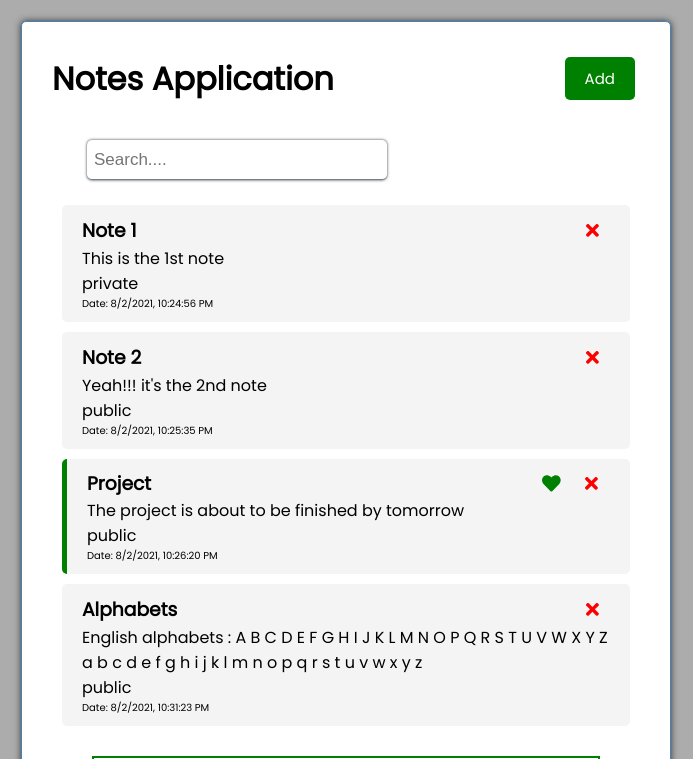
Test: Notes Application › Search testing: Search for notes › Where title contains 'p'
Type "p" into the field with id "search".
click(237, 160); type("p")  # box [87,140,387,180]
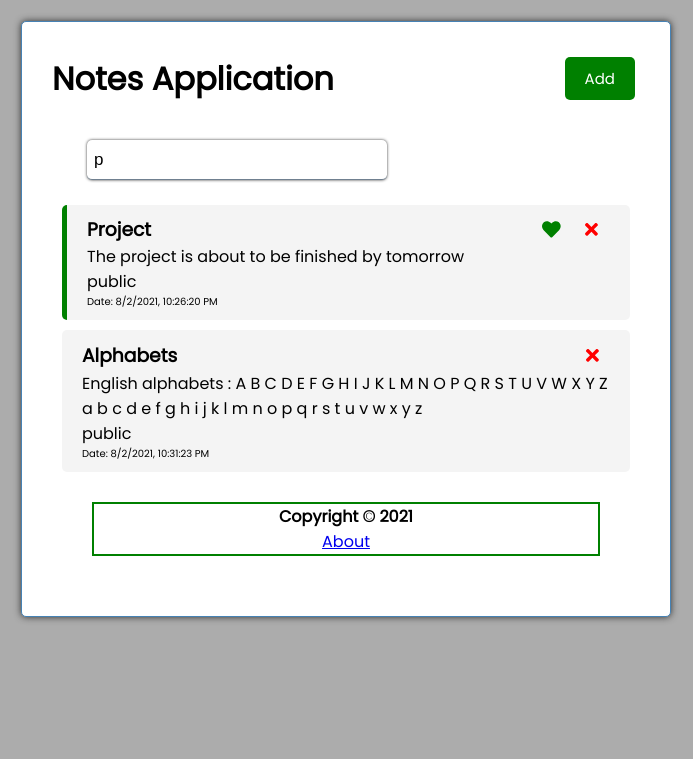
Now the number of elements with class "notes-item" is at least 2, box [52,205,640,320]
